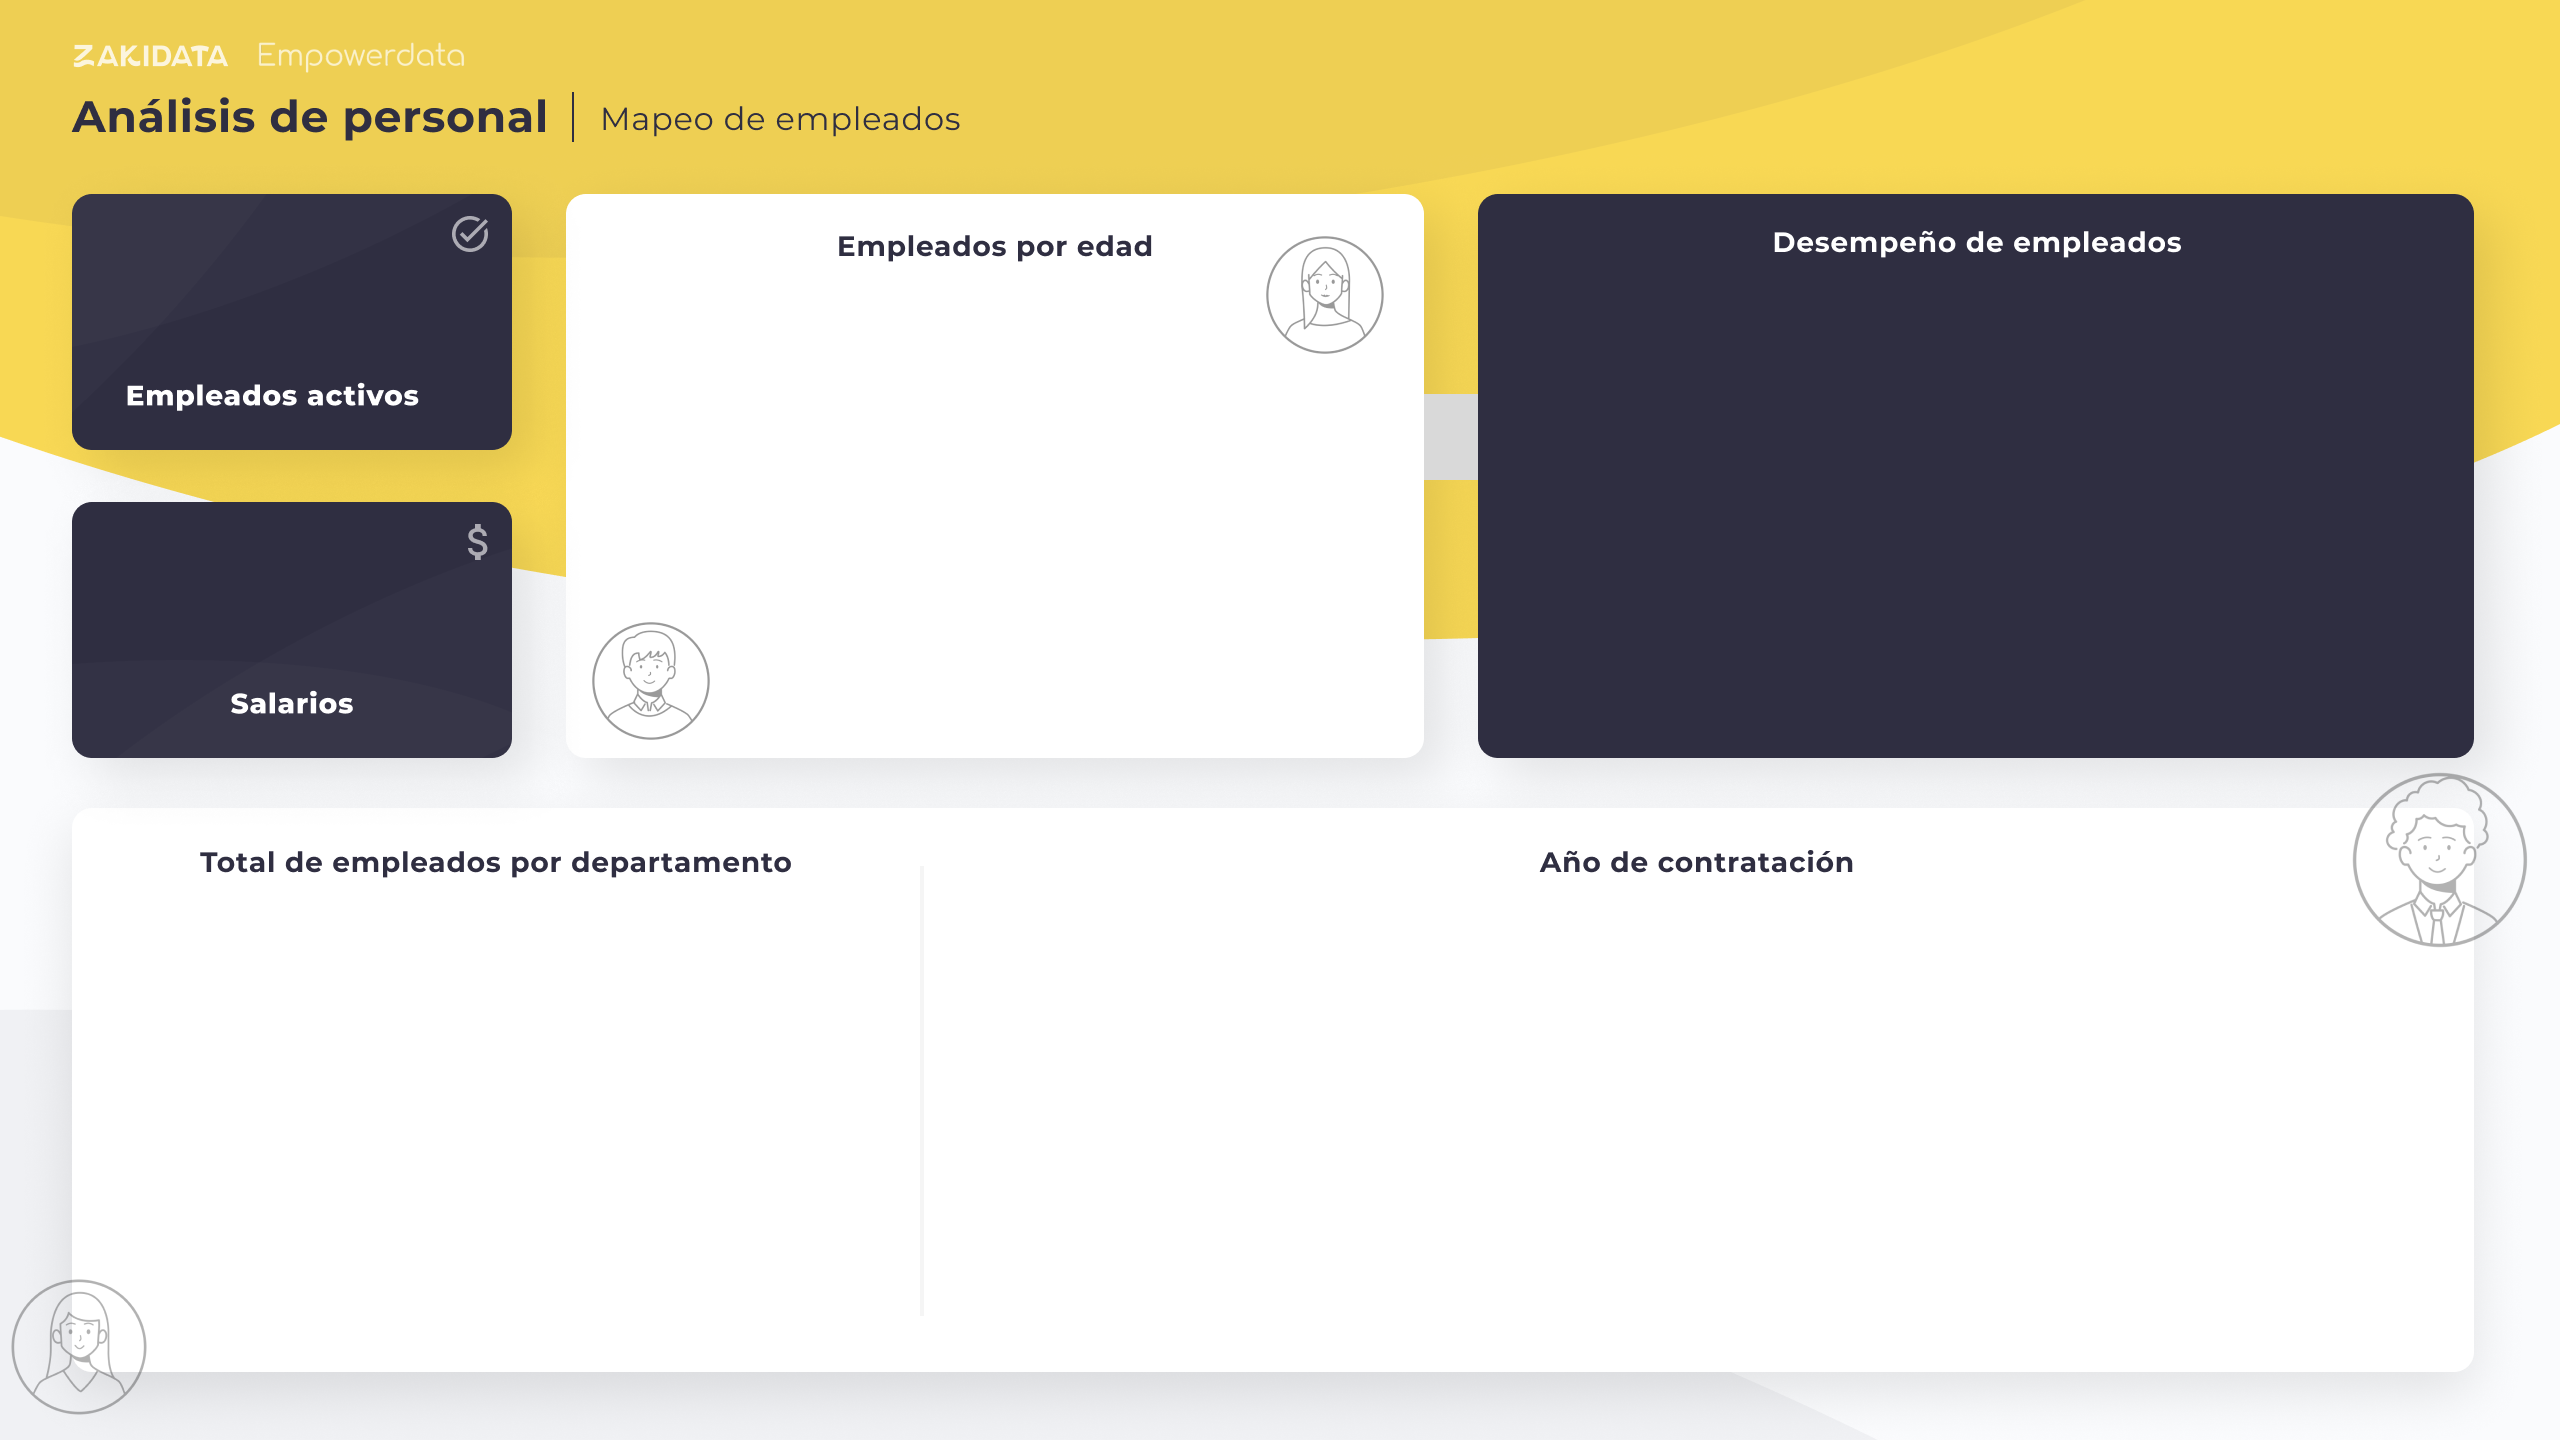

This screenshot's page, from the dashboard's own definition file:
{"tool":"powerbi","page":{"name":"Página 1","canvas":[1280,720],"ordinal":0},"visuals":[{"type":"card","fields":{"Values":["integrantes.Total_Colaboradores"]},"box":[44.3,105.8,203.6,85.7],"z":0},{"type":"card","fields":{"Values":["integrantes.Costo_Salario"]},"box":[44.3,256,203.6,86.7],"z":1000},{"type":"tableEx","fields":{"Values":["departamentos.Departamento","integrantes.Total_Colaboradores","Avg(integrantes.Salario)","departamentos.Gerente"]},"box":[83.7,464.6,349.7,152.2],"z":2000},{"type":"columnChart","fields":{"Y":["integrantes.Total_Colaboradores"],"Category":["integrantes.Fecha de contratación.Variación.Jerarquía de fechas.Año"]},"box":[472.7,444.5,746.8,236.9],"z":3000},{"type":"clusteredColumnChart","fields":{"Category":["integrantes.Registro de desempeño"],"Y":["integrantes.Total_Colaboradores"]},"box":[771,138.1,428.3,213.7],"z":4000},{"type":"funnel","fields":{"Category":["integrantes.Rango edades"],"Y":["integrantes.Total_Colaboradores"]},"box":[340.7,147.1,310.4,204.6],"z":4001},{"type":"slicer","fields":{"Values":["departamentos.Departamento"]},"box":[666.2,25.2,574.5,40.3],"z":4002}]}

Visuals, with their boxes in screenshot pixels (x1, y1, x2, y2), scaled from the page's 1280x720 canvas onto the 2560x1440 screenshot:
card - integrantes.Total_Colaboradores: BBox(89, 212, 496, 383)
card - integrantes.Costo_Salario: BBox(89, 512, 496, 685)
tableEx - departamentos.Departamento x integrantes.Total_Colaboradores: BBox(167, 929, 867, 1234)
columnChart - integrantes.Total_Colaboradores x integrantes.Fecha de contratación.Variación.Jerarquía de fechas.Año: BBox(945, 889, 2439, 1363)
clusteredColumnChart - integrantes.Registro de desempeño x integrantes.Total_Colaboradores: BBox(1542, 276, 2399, 704)
funnel - integrantes.Rango edades x integrantes.Total_Colaboradores: BBox(681, 294, 1302, 703)
slicer - departamentos.Departamento: BBox(1332, 50, 2481, 131)
